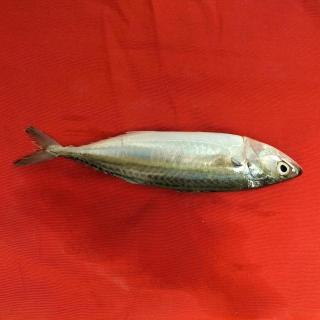Ikan: (9, 100, 311, 218)
